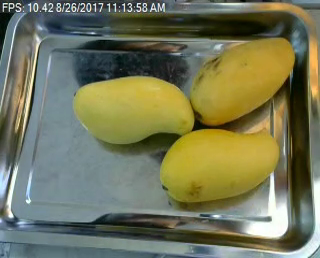Mango: (155, 125, 283, 208), (180, 35, 295, 126), (70, 70, 202, 144)
